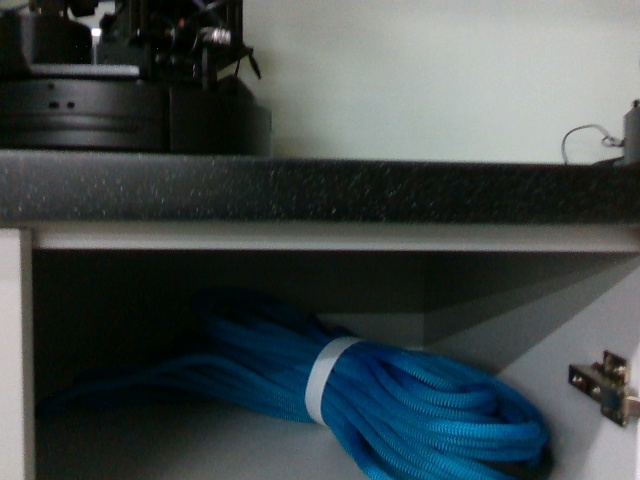rope: (161, 325, 559, 480)
